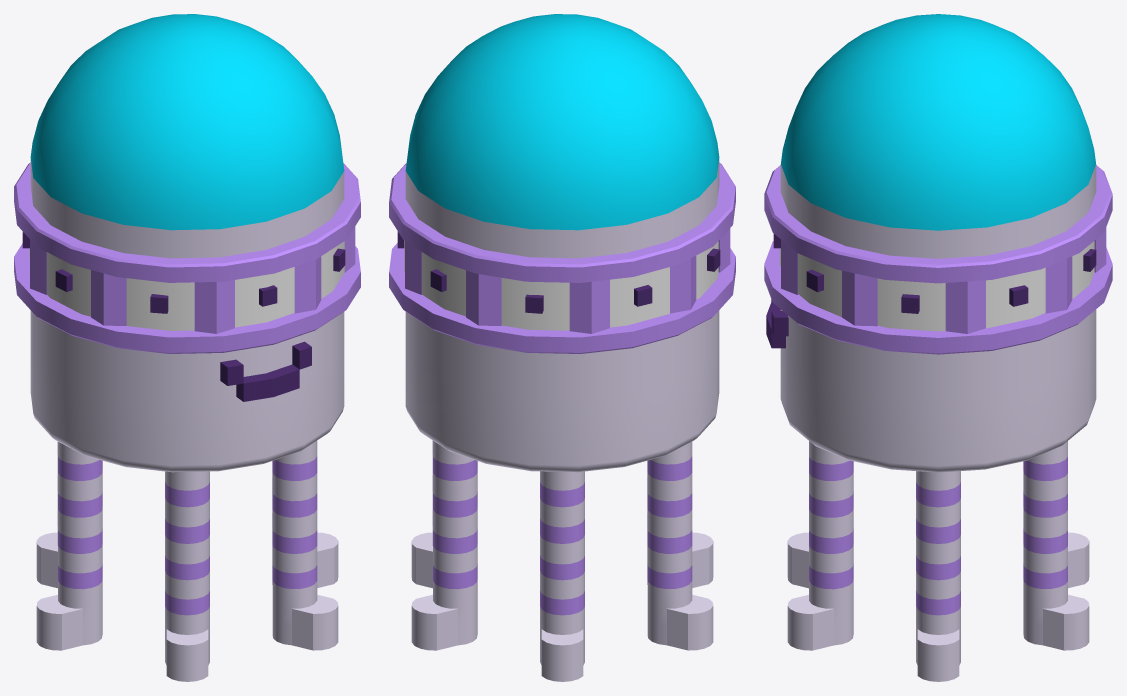
Rendered from Soldier_base.fbx.
The picture shows the model from 3 angles, left to right: view 1: azimuth 30°, elevation 25°; view 2: azimuth 150°, elevation 25°; view 3: azimuth 270°, elevation 25°; orthographic projection.
Parts seen in each view (by area): view 1: body_dome, body_frame, visor, leg4, leg, leg5, mouth_base, pCube27, pCube35, pCube28, leg3, leg1 (+1 smaller); view 2: body_dome, body_frame, visor, leg, leg2, leg1, pCube33, pCube32, pCube34, leg5, leg3, pCube31; view 3: body_dome, body_frame, visor, leg2, leg4, leg3, pCube30, pCube29, pCube31, leg1, leg5, mouth_base (+1 smaller).
Part boxes in pixels (x1,y1,x2,y2): body_dome: (30, 14, 344, 230); body_frame: (30, 159, 344, 472); visor: (14, 162, 360, 353); leg4: (272, 440, 338, 650); leg: (36, 442, 102, 650); leg5: (165, 471, 209, 681); mouth_base: (220, 341, 311, 401); pCube27: (194, 280, 234, 333); pCube35: (91, 270, 126, 325); pCube28: (294, 256, 321, 313); leg3: (272, 461, 338, 587); leg1: (36, 442, 57, 588); body_dome: (405, 14, 719, 230); body_frame: (405, 159, 719, 472); visor: (389, 162, 735, 353); leg: (647, 442, 713, 650); leg2: (411, 441, 477, 650); leg1: (540, 471, 584, 681); pCube33: (569, 279, 609, 333); pCube32: (466, 270, 501, 325); pCube34: (670, 256, 696, 313); leg5: (647, 461, 713, 587); leg3: (411, 440, 432, 588); pCube31: (405, 241, 421, 294); body_dome: (781, 14, 1095, 230); body_frame: (780, 164, 1096, 472); visor: (764, 165, 1112, 354); leg2: (1023, 441, 1089, 650); leg4: (787, 441, 853, 650); leg3: (916, 471, 960, 681); pCube30: (945, 280, 985, 333); pCube29: (842, 270, 877, 326); pCube31: (1045, 256, 1072, 313); leg1: (1068, 532, 1089, 588); leg5: (787, 532, 808, 588); mouth_base: (766, 299, 788, 348).
Size of the model in its own units: 613 by 1128 by 613.
